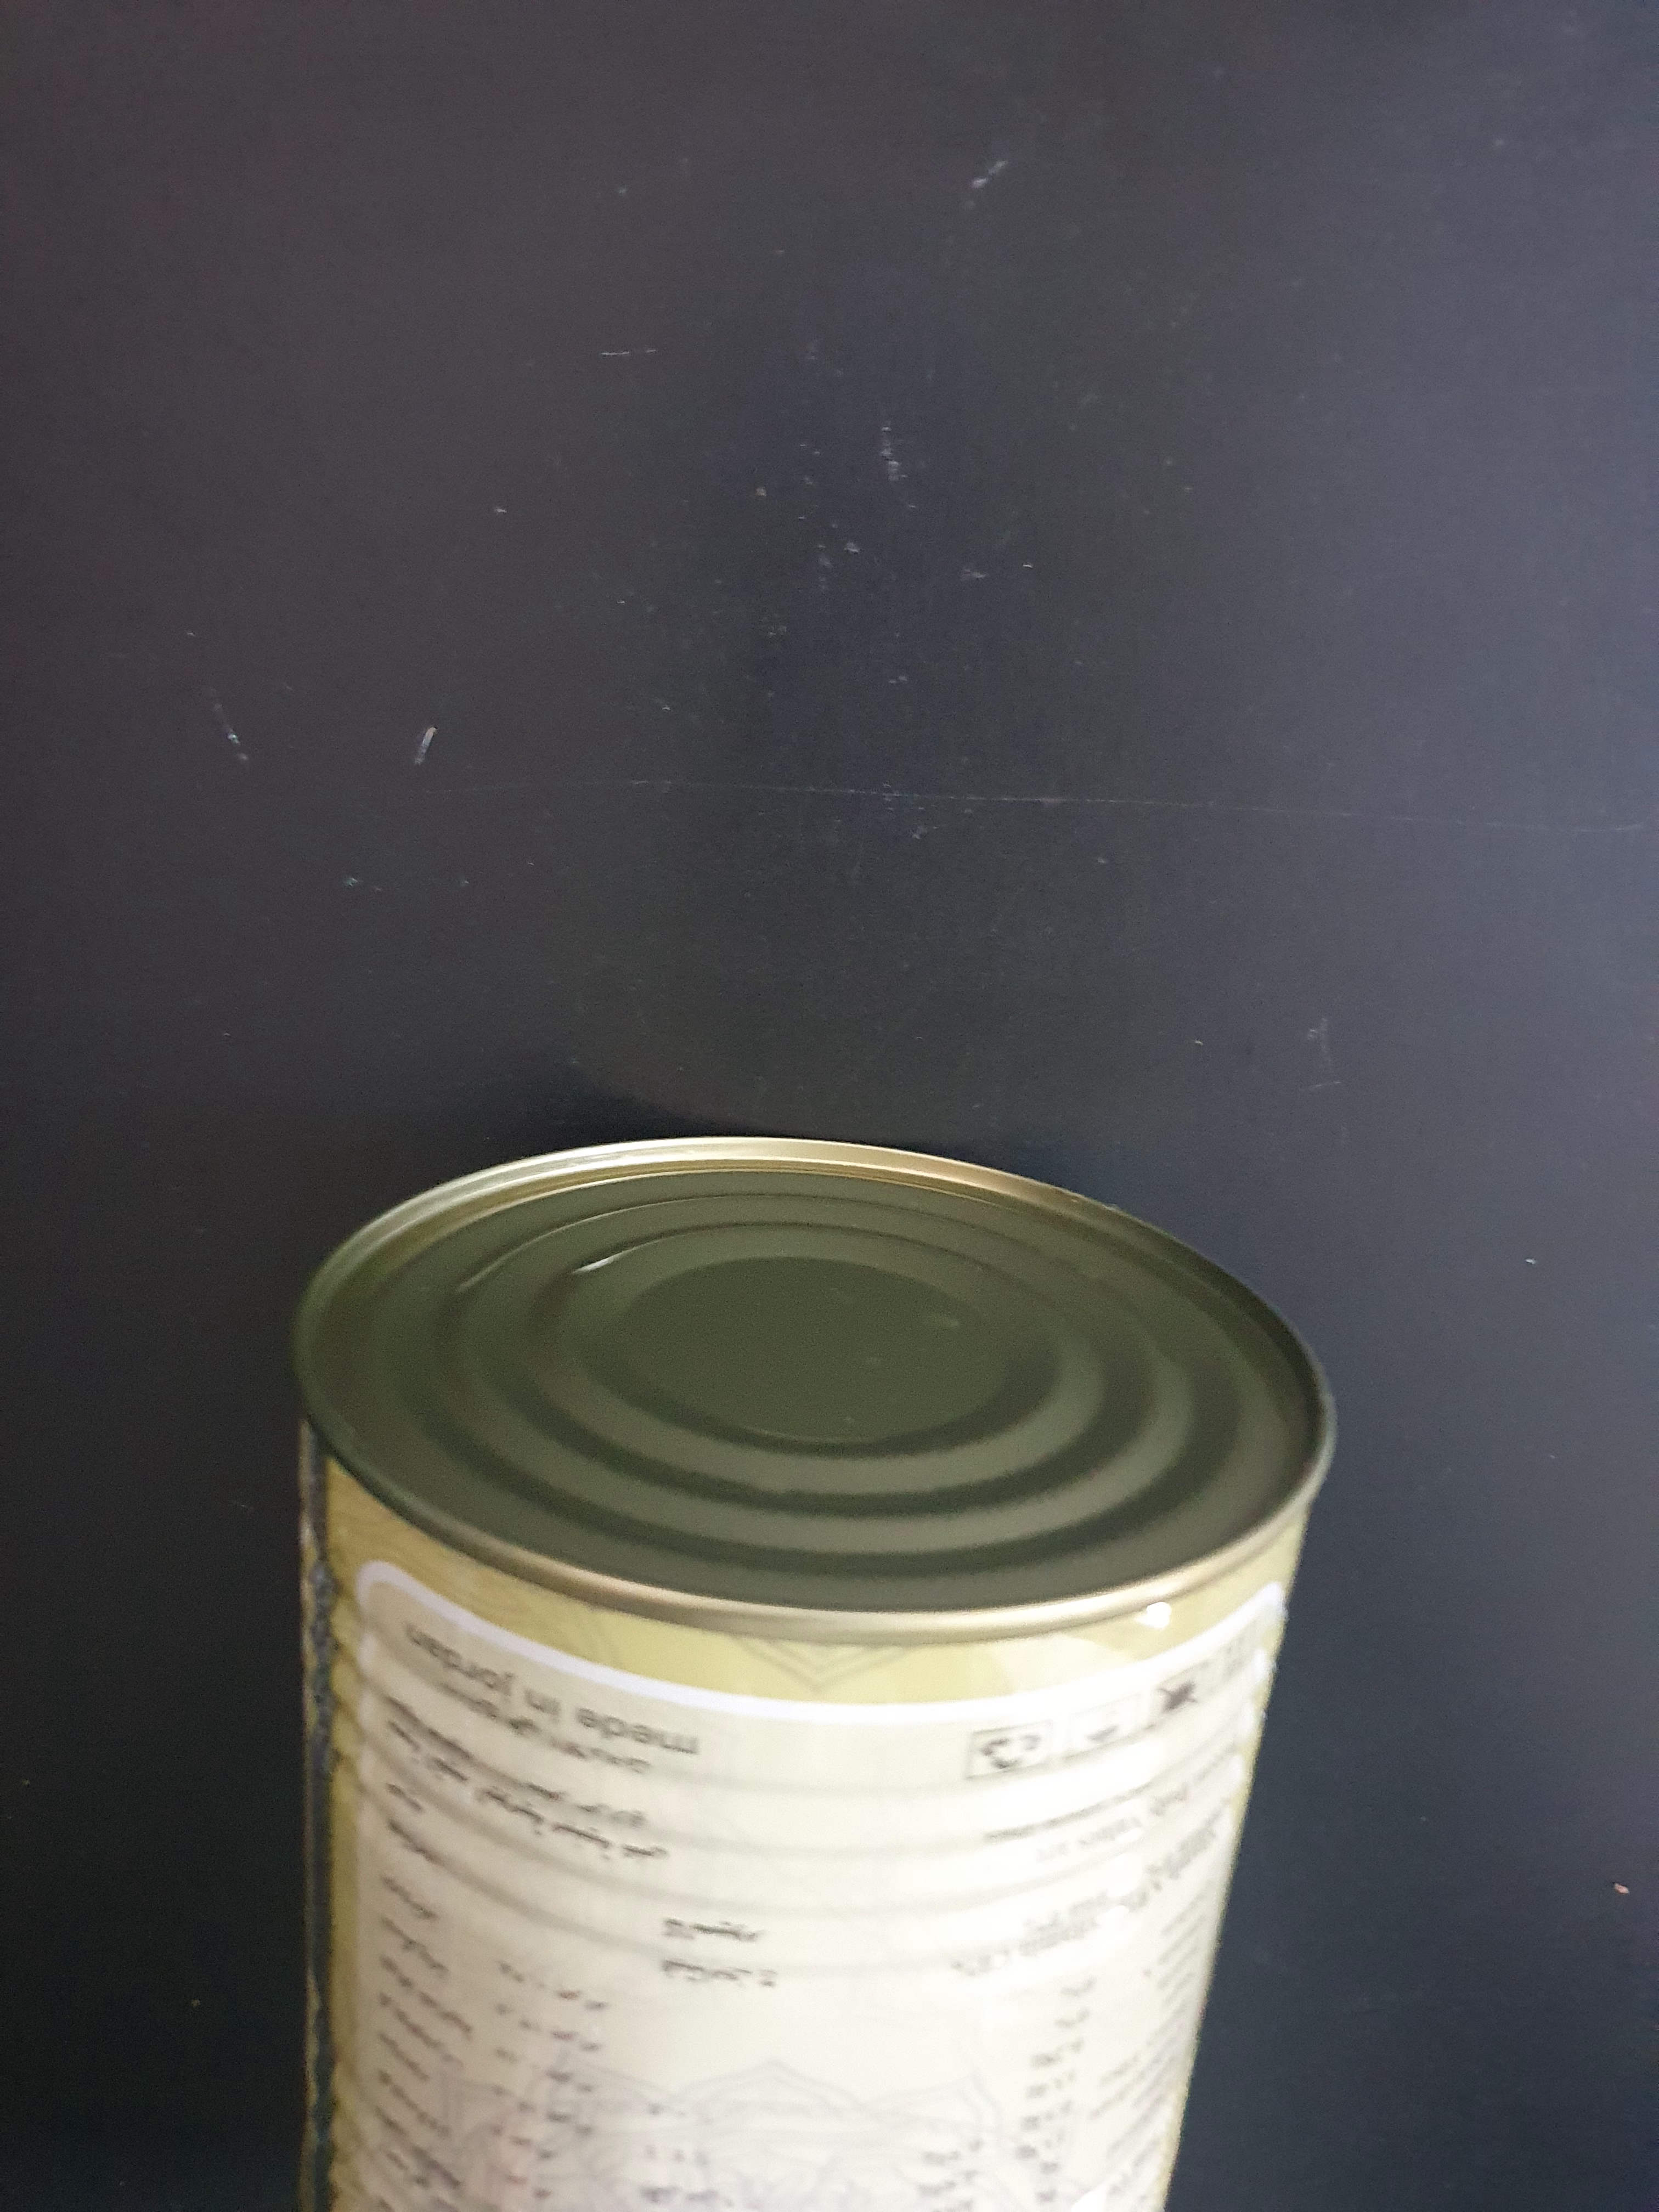metal: (202, 1061, 1342, 2212)
